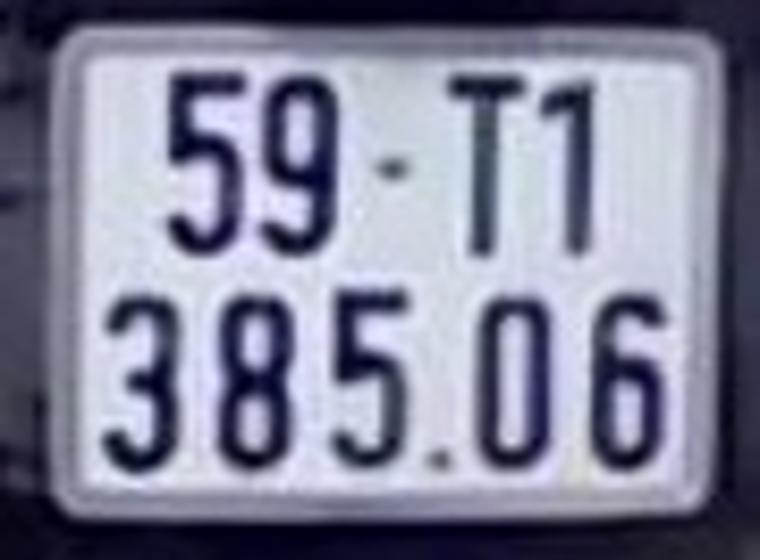-: (374, 151, 417, 187)
.: (419, 444, 467, 481)
0: (468, 290, 560, 475)
1: (537, 66, 609, 272)
3: (102, 286, 183, 478)
5: (164, 65, 251, 269), (330, 282, 418, 472)
6: (582, 287, 678, 473)
8: (207, 287, 300, 484)
9: (258, 65, 349, 268)
T: (441, 64, 533, 266)
